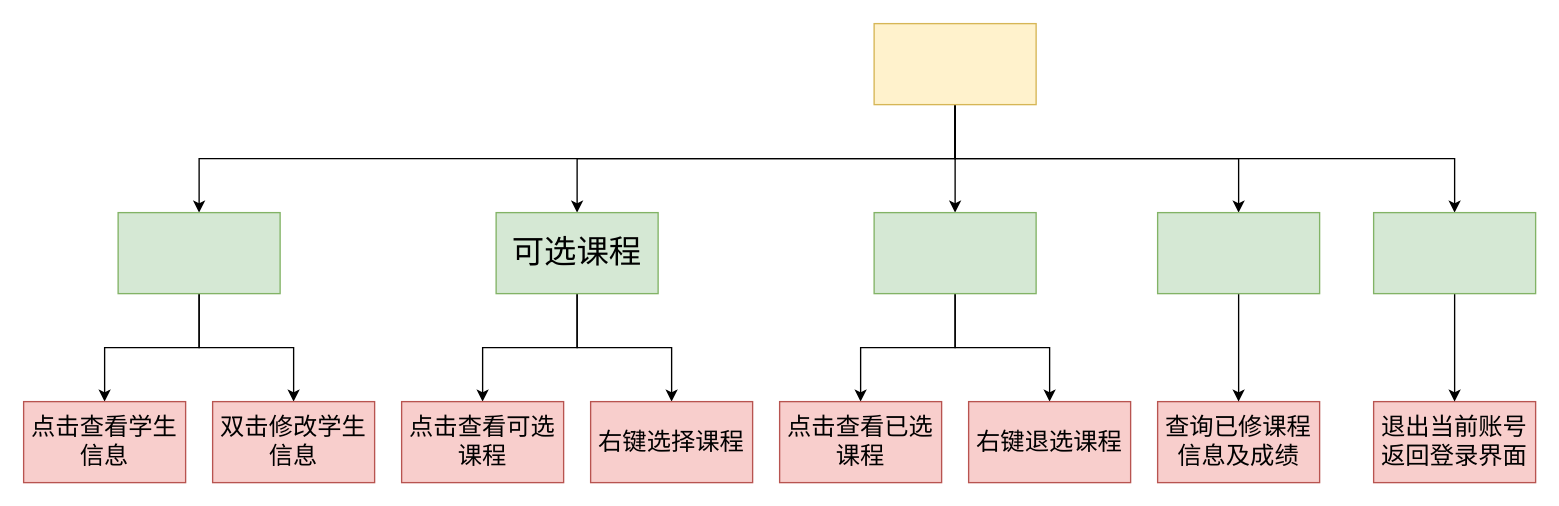
The diagram is 1559 pixels wide and 506 high, and some of its shapes have lost their labels. The shapes that lost their labels are listed below. From the top down, each one's box as (x1, y1, x2, y2) in pixels, then its label:
(873, 22, 1036, 105): 学生角色
(117, 211, 280, 294): 个人信息
(873, 211, 1036, 294): 已选课程
(1156, 211, 1320, 294): 查询成绩
(1372, 211, 1536, 294): 切换用户
